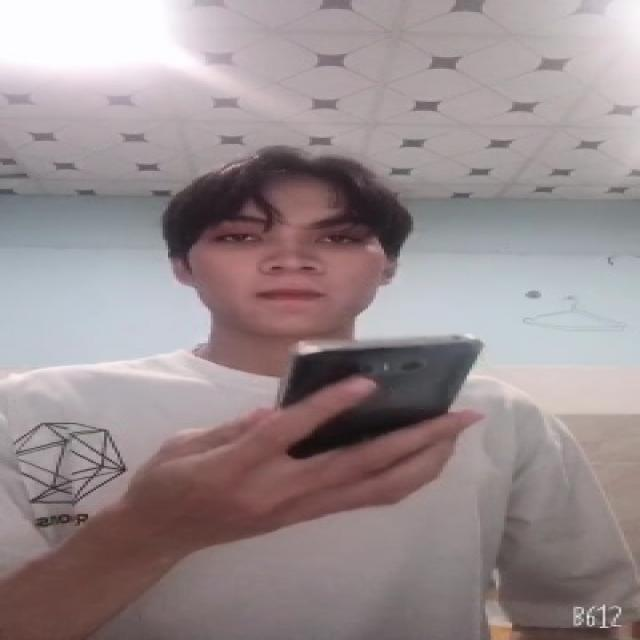Phone: (272, 332, 484, 455)
